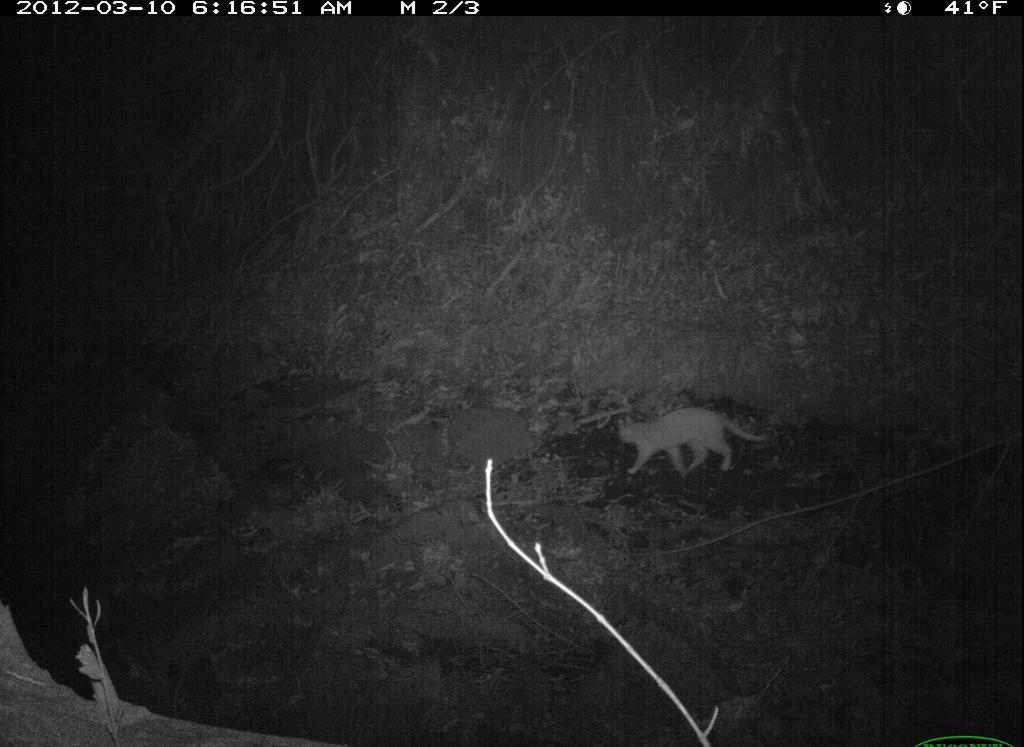cat: (607, 396, 776, 488)
